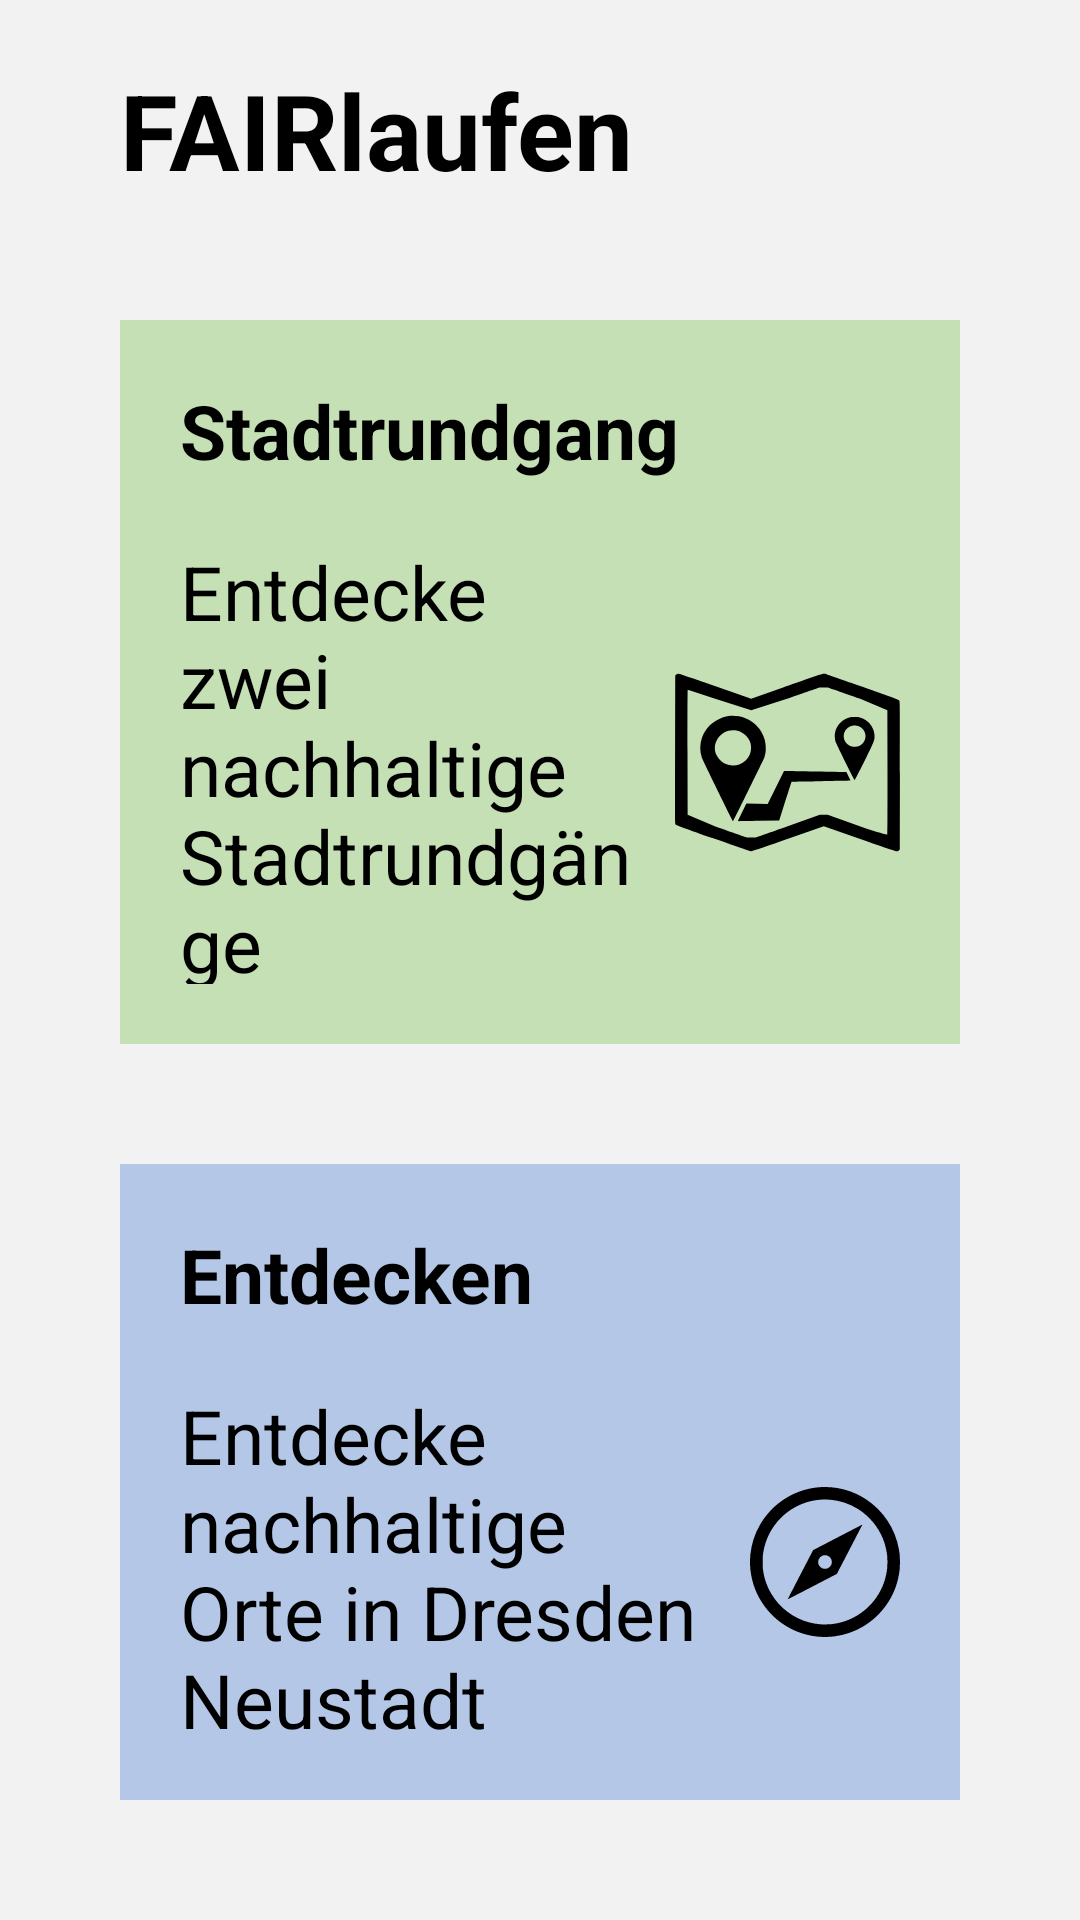

Screen size 1080px x 1920px. Icon name, then its box in pixels as rect(x1, y1, x2, y2):
city tour: rect(675, 673, 900, 852)
discover: rect(750, 1487, 900, 1637)
